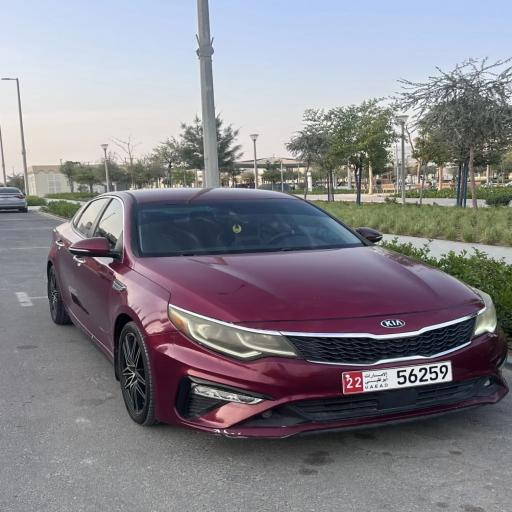license-plates: (343, 362, 453, 394)
